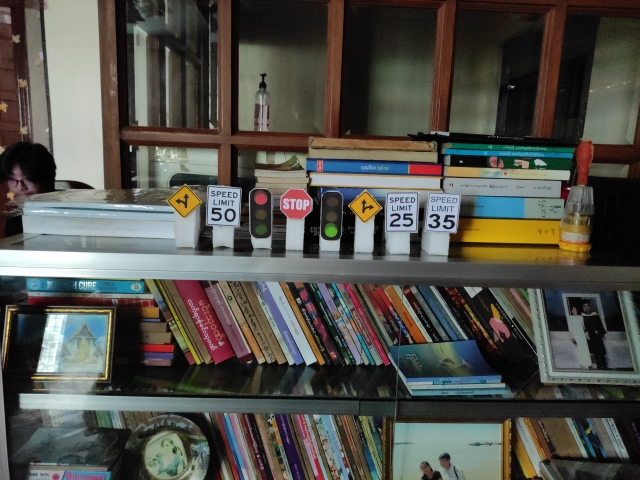Green Traffic Light: (321, 190, 343, 242)
Red Traffic Light: (249, 188, 274, 238)
Speed Limit 25: (385, 190, 419, 233)
Speed Limit 35: (425, 192, 461, 231)
Speed Limit 50: (206, 184, 241, 226)
Stop Sign: (279, 188, 312, 220)
Straight Or Left Sign: (168, 184, 201, 217)
Straight Or Right Sign: (349, 190, 382, 223)
